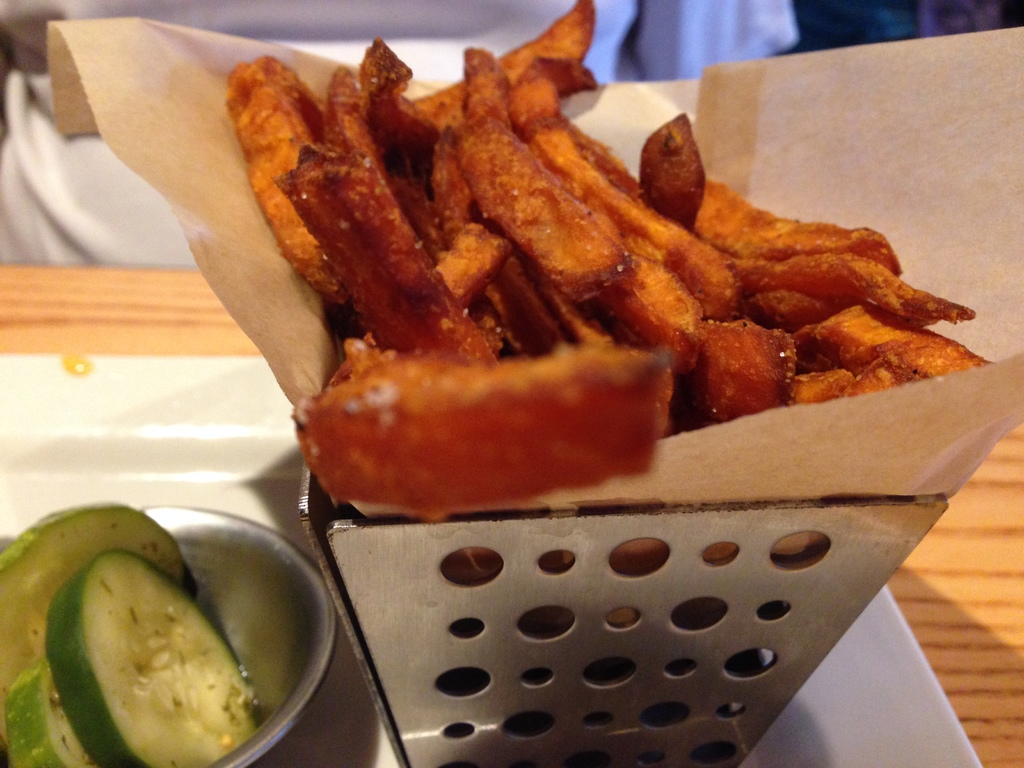French fries: (158, 88, 933, 643)
